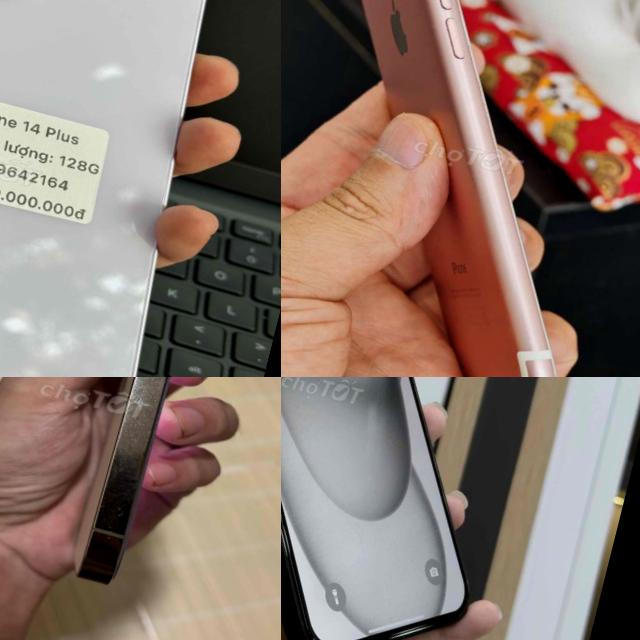gen_14: (0, 0, 252, 377), (36, 377, 250, 607)
gen_15: (281, 377, 580, 640)
gen_7_8: (281, 0, 640, 377)
scratch: (97, 498, 143, 554), (128, 377, 172, 420)
